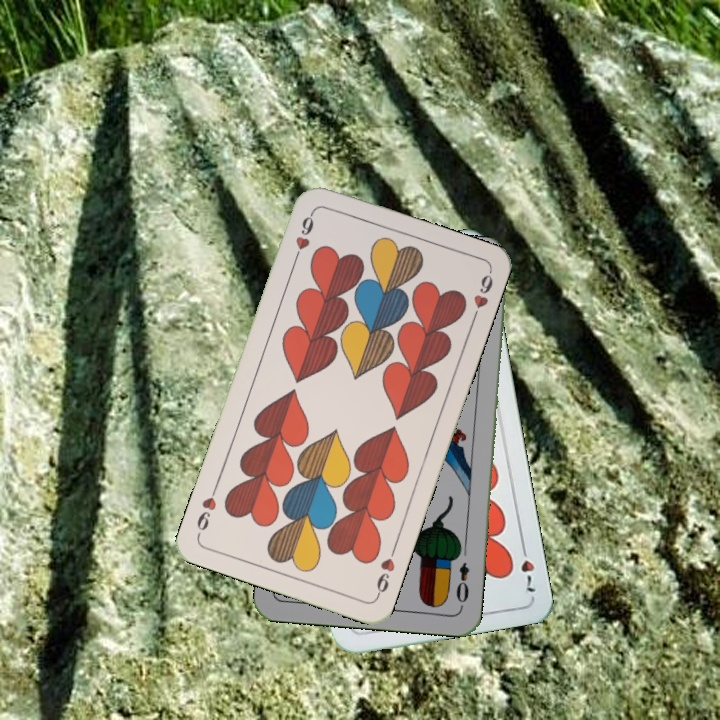EO: (451, 558, 472, 605)
H7: (516, 539, 538, 595)
H9: (289, 207, 317, 265), (372, 543, 399, 600)
